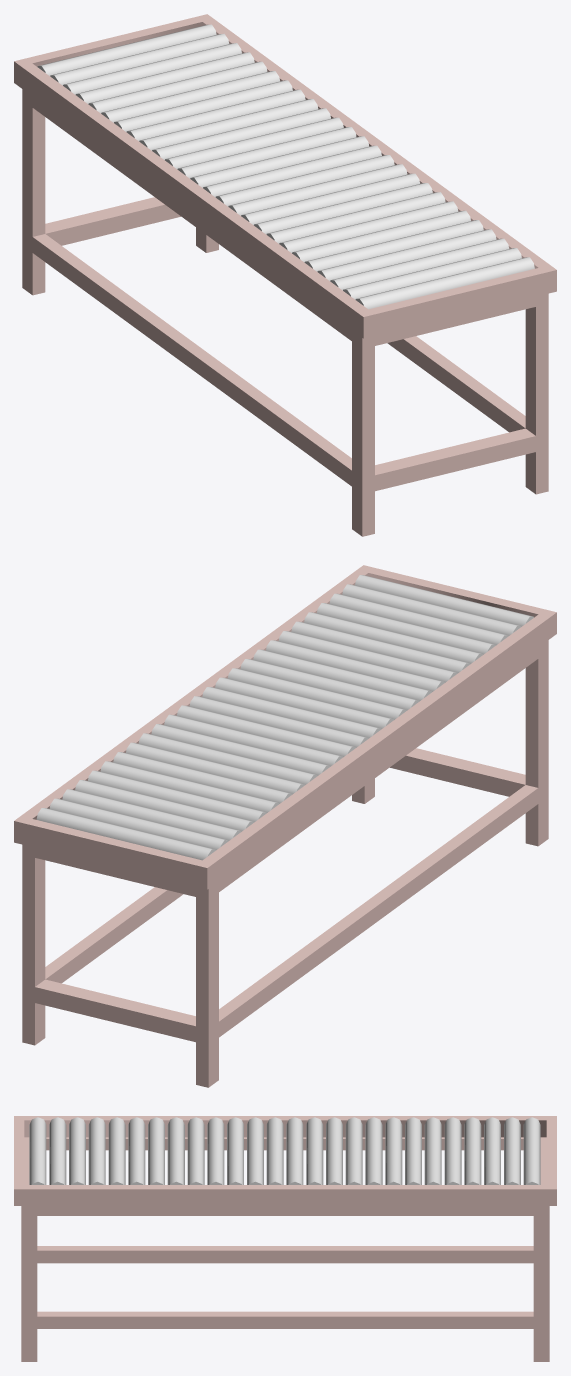
File: Esteira.fbx
3 renders of one model, top to bottom at view 1: azimuth 30°, elevation 25°; view 2: azimuth 150°, elevation 25°; view 3: azimuth 270°, elevation 25°, orthographic. The views are drawn at different scales.
Parts seen in each view (by area): view 1: Cubo.007; view 2: Cubo.007; view 3: Cubo.007.
Boxes of the visible parts, x1,y1,x2,y2 form: Cubo.007: (14, 14, 556, 536); Cubo.007: (14, 565, 556, 1087); Cubo.007: (14, 1116, 556, 1361).
Size of the model in its own units: 200 by 225 by 626.
